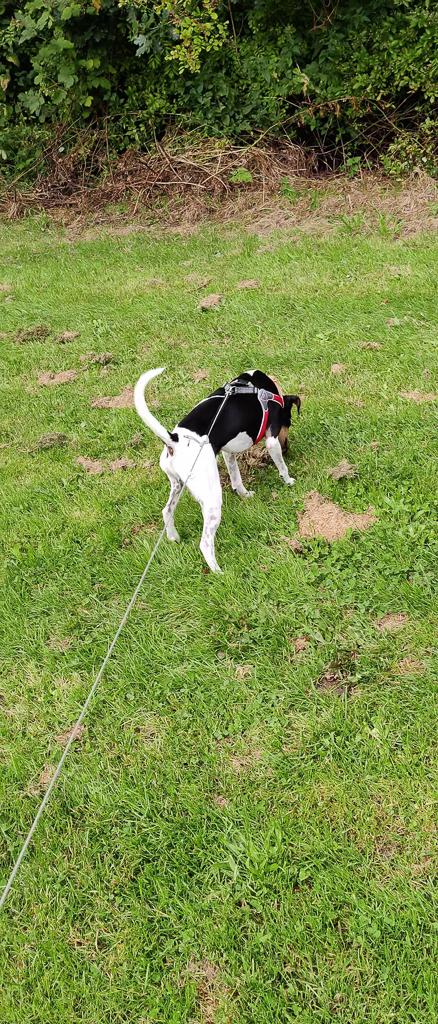Dog: (118, 344, 308, 588)
